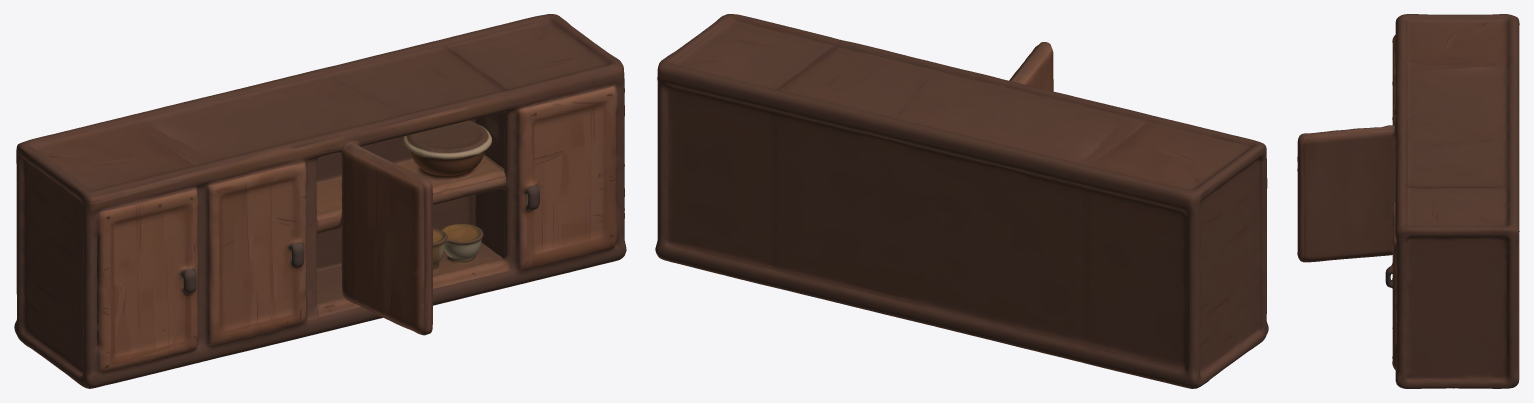
Rendered from stylized_kitchen_cabinet_3d_model.fbx.
3 views of the same model, side by side, from view 1: azimuth 30°, elevation 25°; view 2: azimuth 150°, elevation 25°; view 3: azimuth 270°, elevation 25° (orthographic). The views are drawn at different scales.
Parts seen in each view (by area): view 1: tripo_node_4fd517e4; view 2: tripo_node_4fd517e4; view 3: tripo_node_4fd517e4.
Part boxes in pixels (left/top/right/bottom): tripo_node_4fd517e4: left=14, top=14, right=626, bottom=388; tripo_node_4fd517e4: left=655, top=14, right=1268, bottom=388; tripo_node_4fd517e4: left=1297, top=14, right=1519, bottom=388.
Bounding box in the file's own units: 99.95 × 34.78 × 43.39.
1 material, 1 textured.
